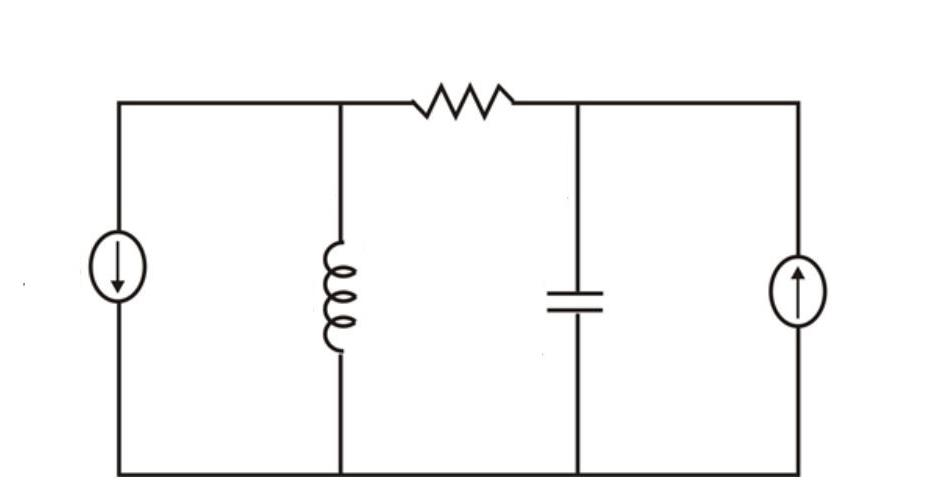resistor: (377, 56, 533, 153)
